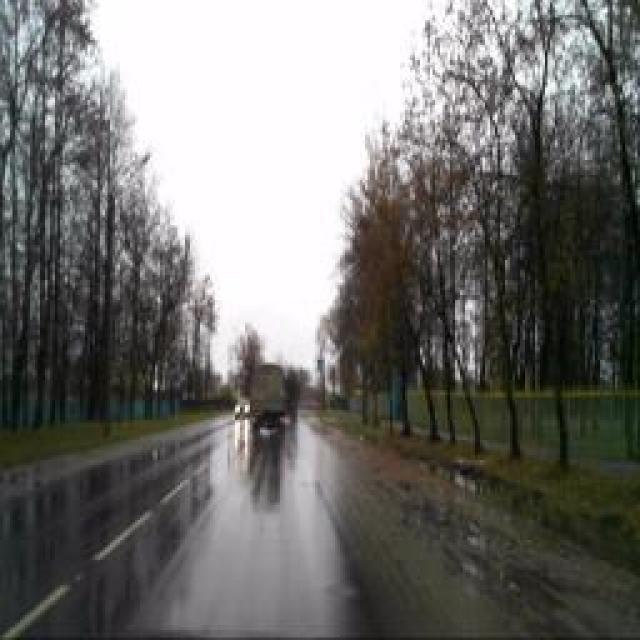sign: (315, 356, 325, 374)
